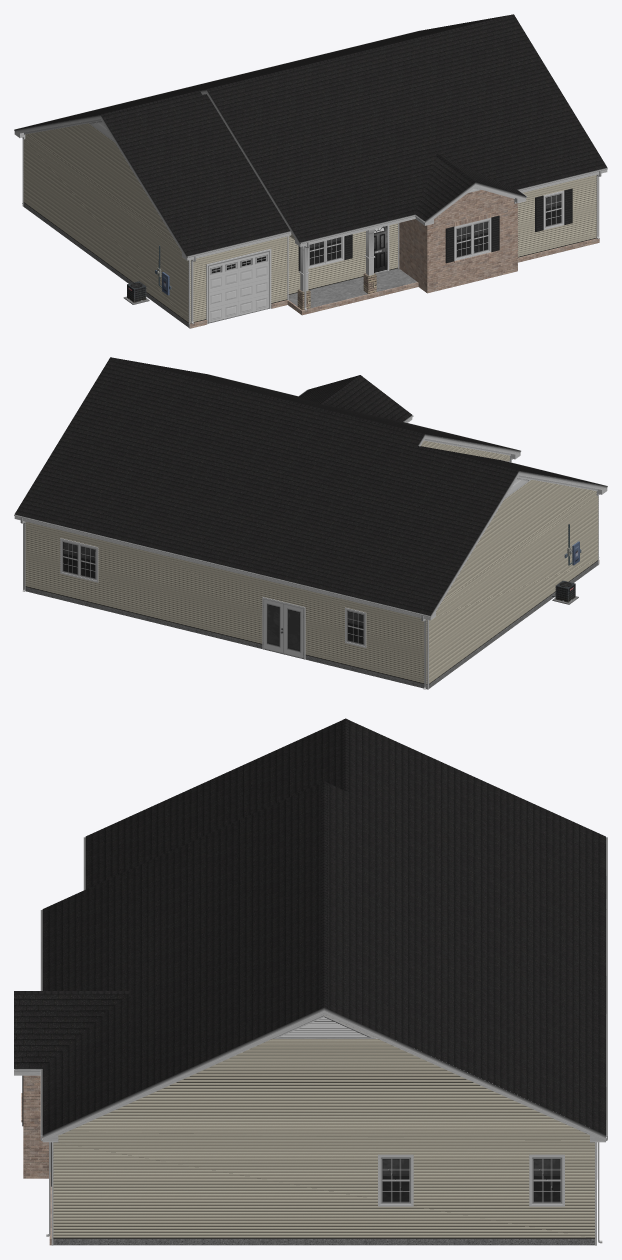
The model's file is house13_mirror2.fbx.
The picture shows the model from 3 angles, top to bottom: view 1: azimuth 30°, elevation 25°; view 2: azimuth 150°, elevation 25°; view 3: azimuth 270°, elevation 25°; orthographic projection. The views are drawn at different scales.
Visible parts, largest first — view 1: house13_mirror2_LOD0; view 2: house13_mirror2_LOD0; view 3: house13_mirror2_LOD0.
Part boxes in pixels (x1,y1,x2,y2): house13_mirror2_LOD0: (14, 14, 607, 328); house13_mirror2_LOD0: (14, 357, 607, 689); house13_mirror2_LOD0: (14, 718, 607, 1245).
Size of what is drawn, in the model's own units: 5.09 by 1.86 by 4.15.
